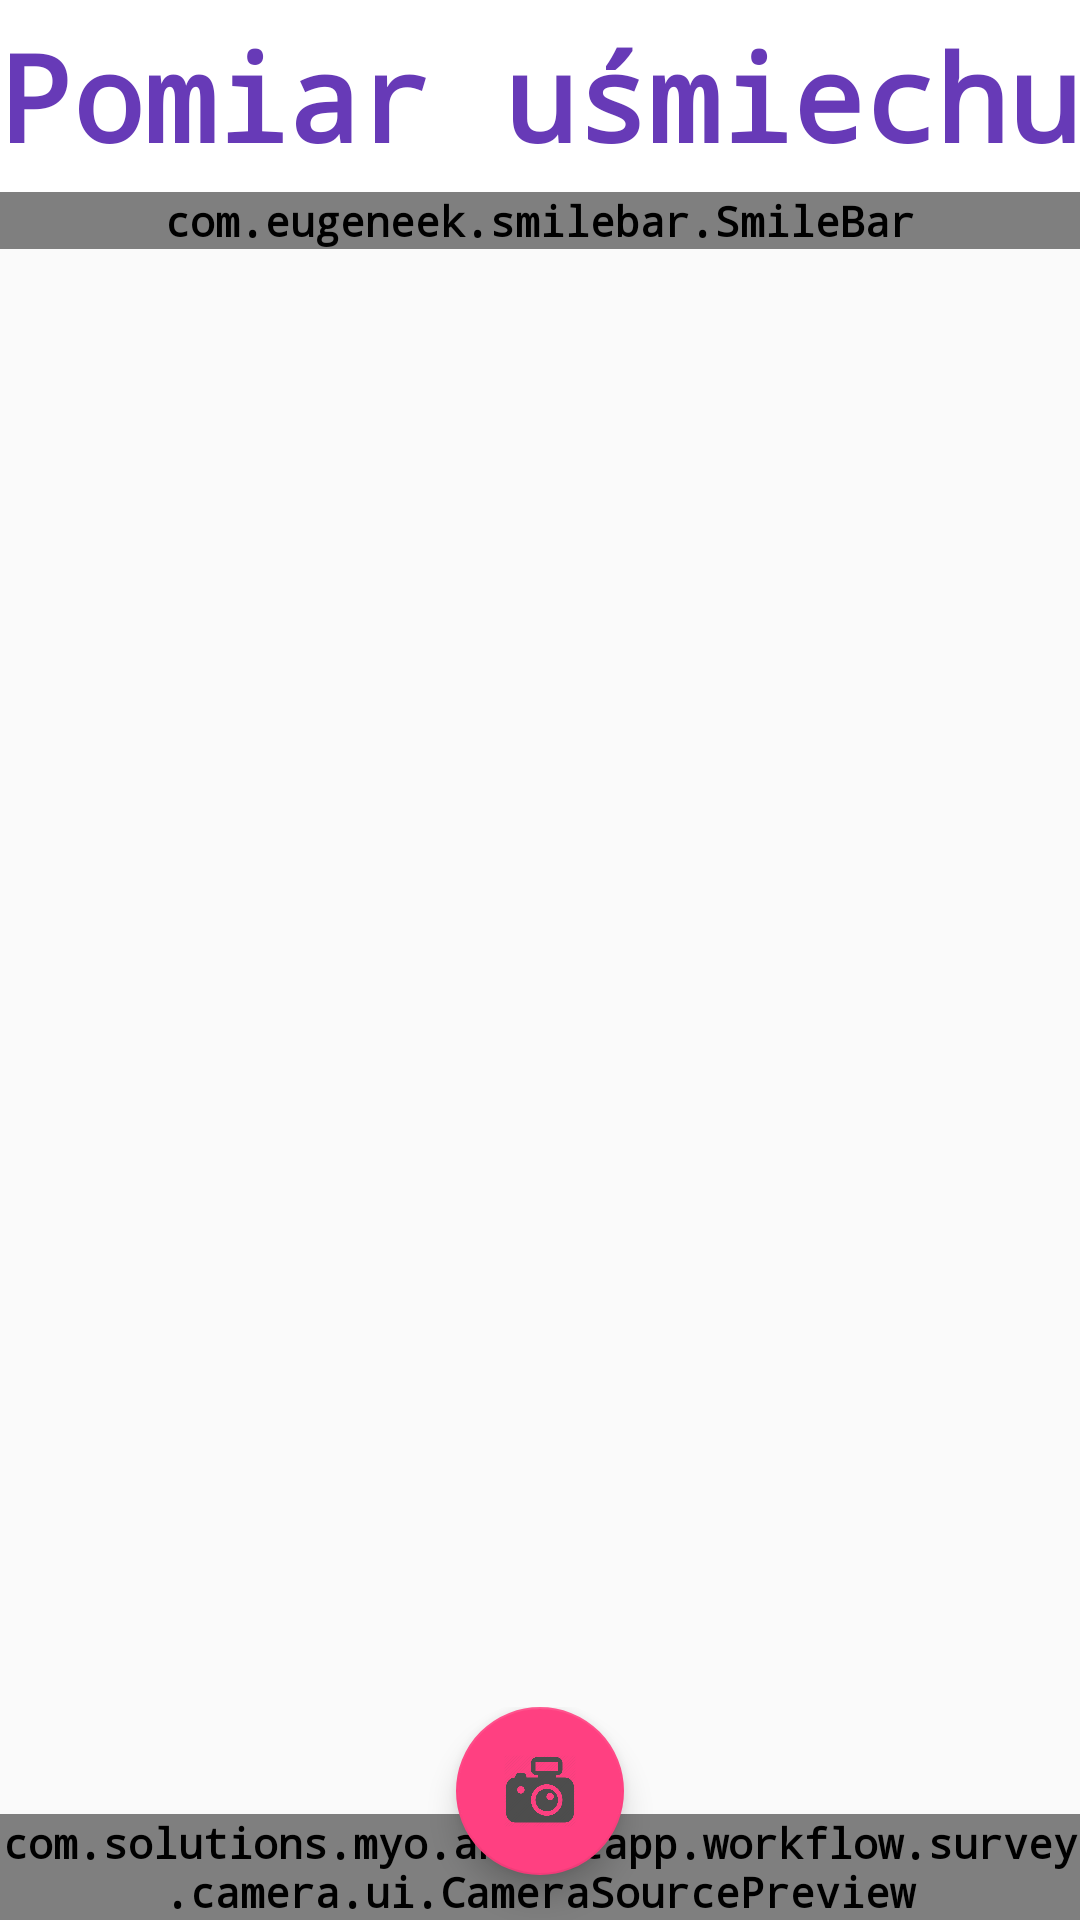

Screen size 1080 x 1920. Icon name, then its center in pixels as (x=x, y=y):
take photo: (x=540, y=1791)
